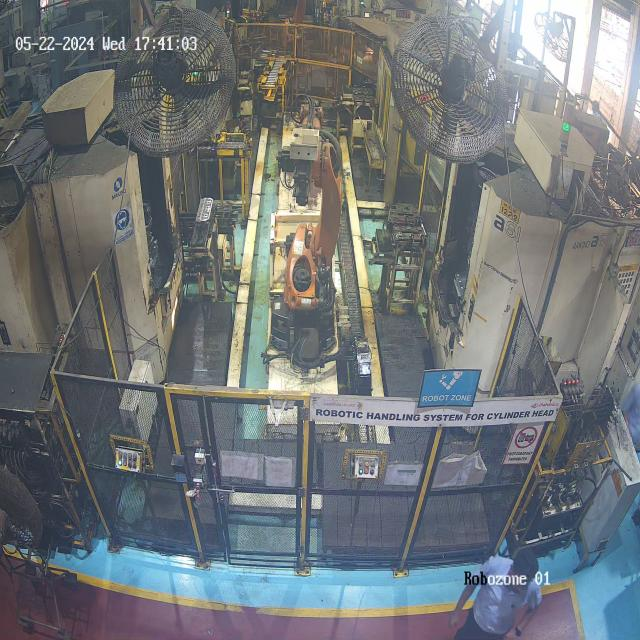person: (442, 541, 547, 640), (617, 372, 640, 467)
